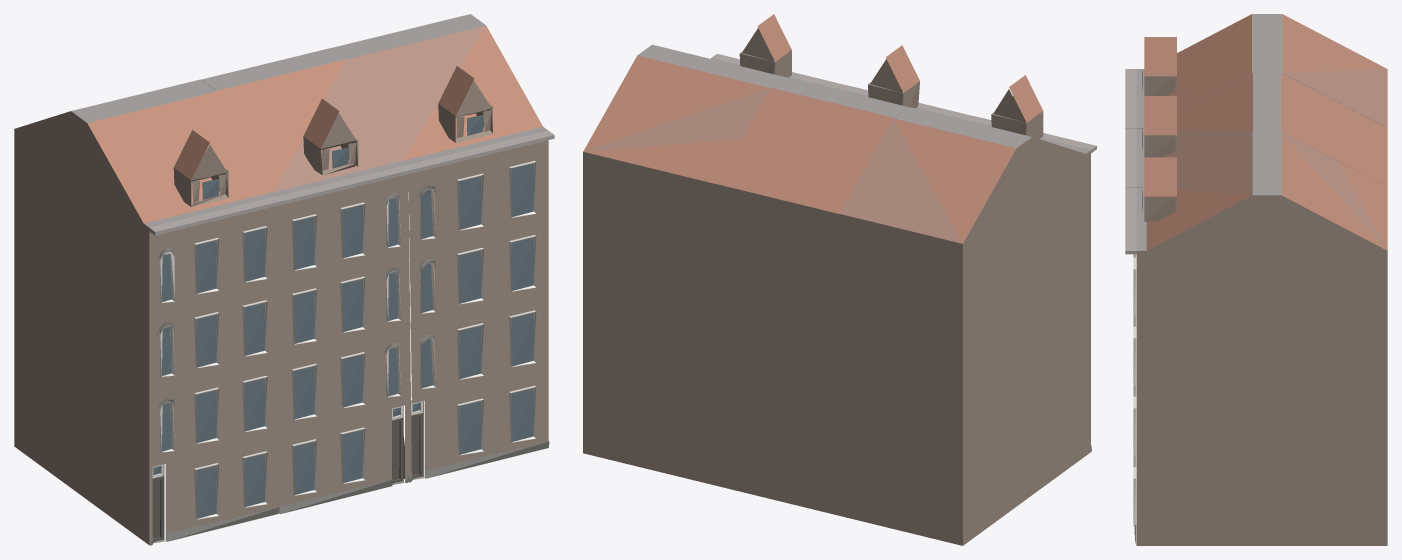
File: chunk-face-soenda-2-36-r2.lod2.glb
The picture shows the model from 3 angles, left to right: view 1: azimuth 30°, elevation 25°; view 2: azimuth 150°, elevation 25°; view 3: azimuth 270°, elevation 25°; orthographic projection. The views are drawn at different scales.
Visible parts, largest first — view 1: lod2; view 2: lod2; view 3: lod2.
Boxes of the visible parts, <box> form: lod2: <box>14,14,554,545</box>; lod2: <box>583,14,1096,545</box>; lod2: <box>1125,14,1387,545</box>.
Bounding box in the file's own units: 17.1 × 15.71 × 10.45.
